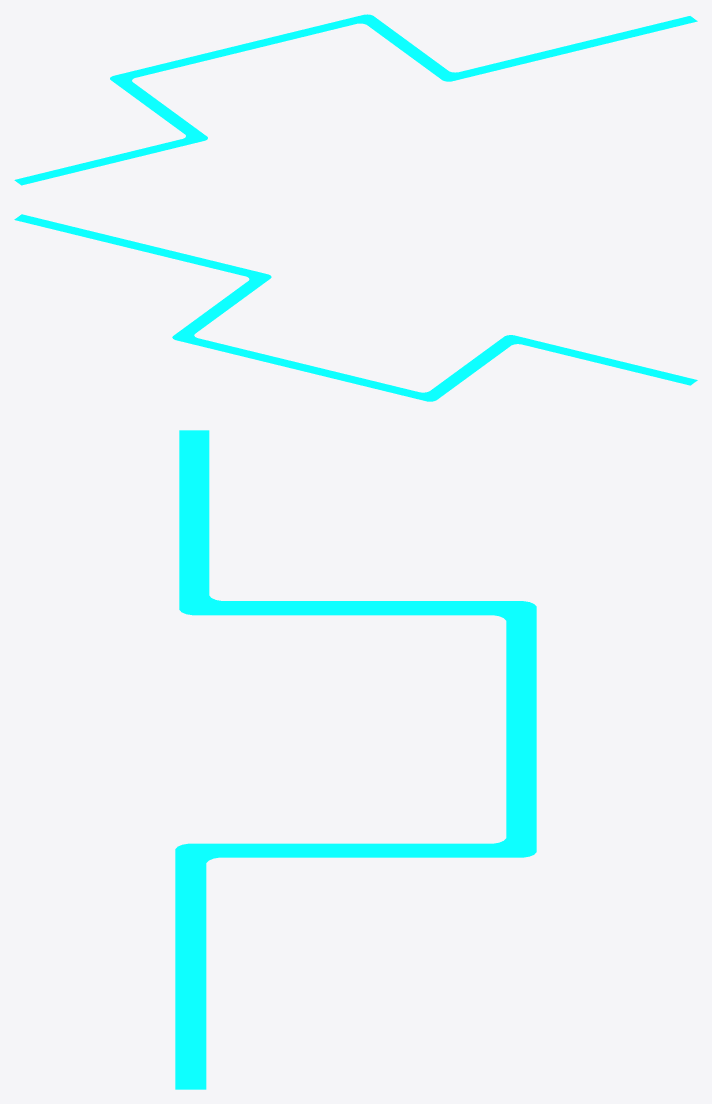
The model's file is Lane_1.fbx.
3 renders of one model, top to bottom at view 1: azimuth 30°, elevation 25°; view 2: azimuth 150°, elevation 25°; view 3: azimuth 270°, elevation 25°, orthographic. The views are drawn at different scales.
Visible parts, largest first — view 1: LANE_1; view 2: LANE_1; view 3: LANE_1.
Part boxes in pixels (left/top/right/bottom): LANE_1: left=14, top=14, right=697, bottom=185; LANE_1: left=14, top=214, right=697, bottom=401; LANE_1: left=175, top=430, right=536, bottom=1089.
Bounding box in the file's own units: 1895 × 7.15e-05 × 439.
